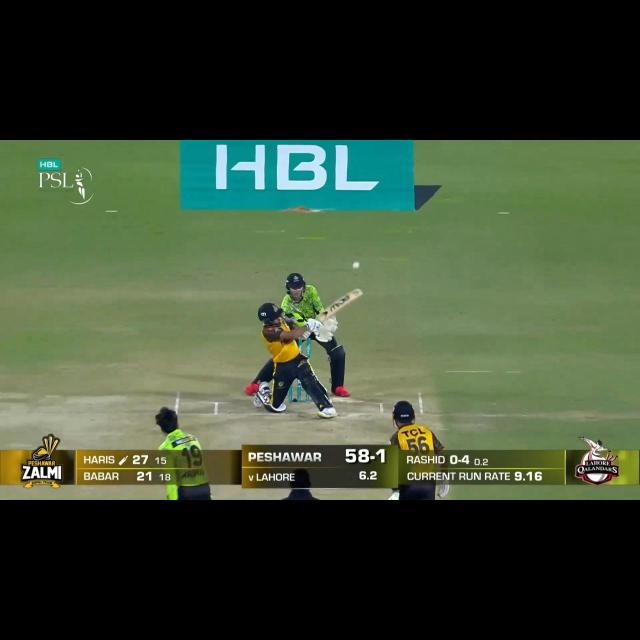bat: (313, 288, 362, 322)
toe: (346, 284, 367, 301)
